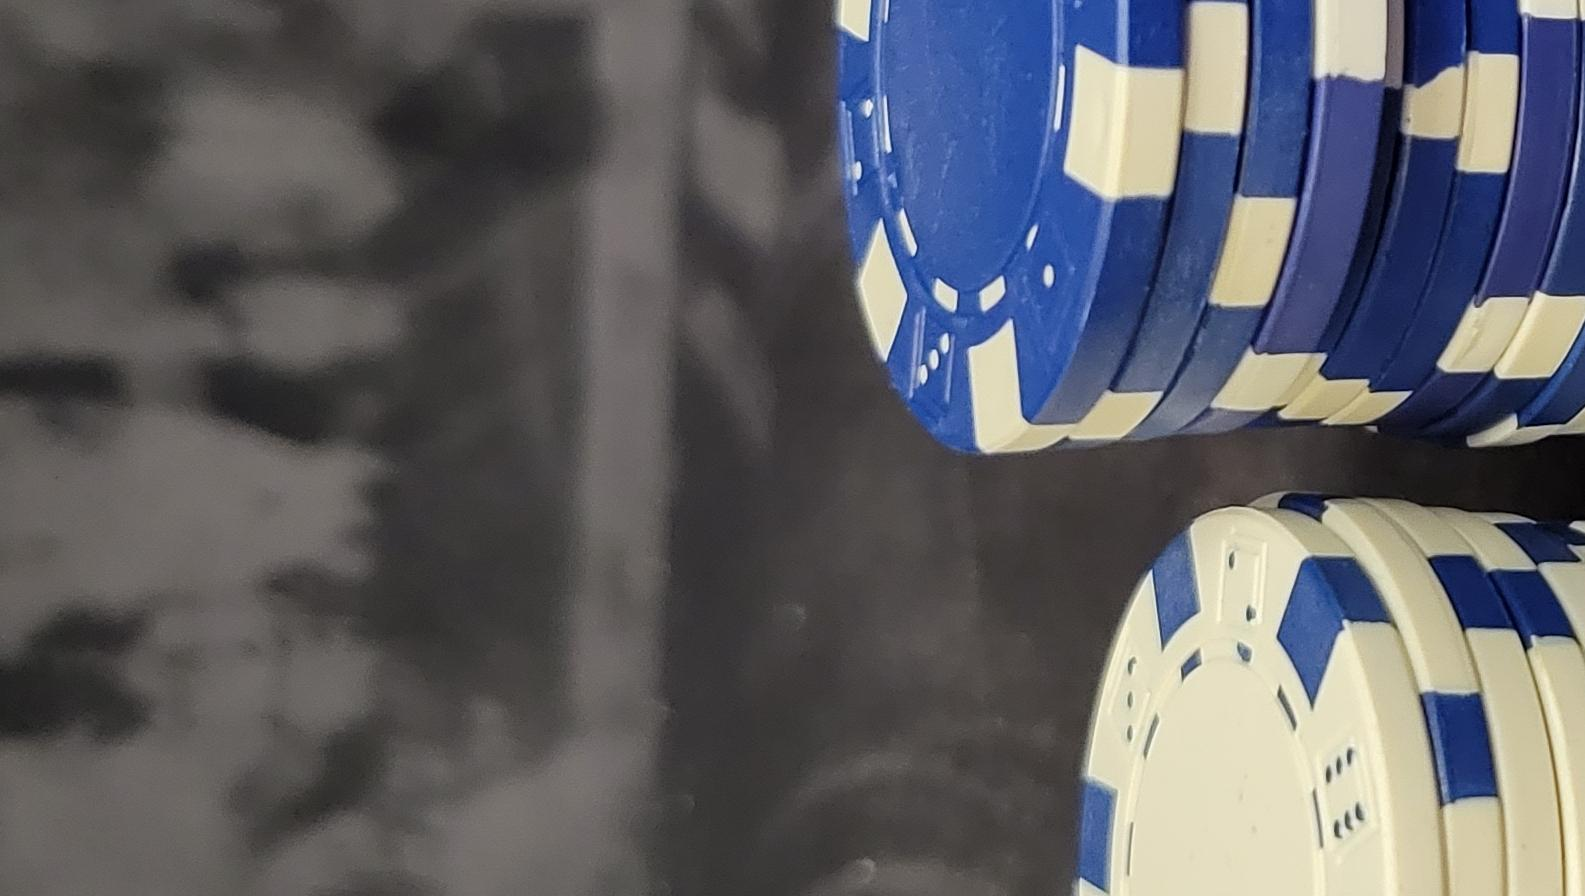Chip: (1, 475, 1145, 896)
